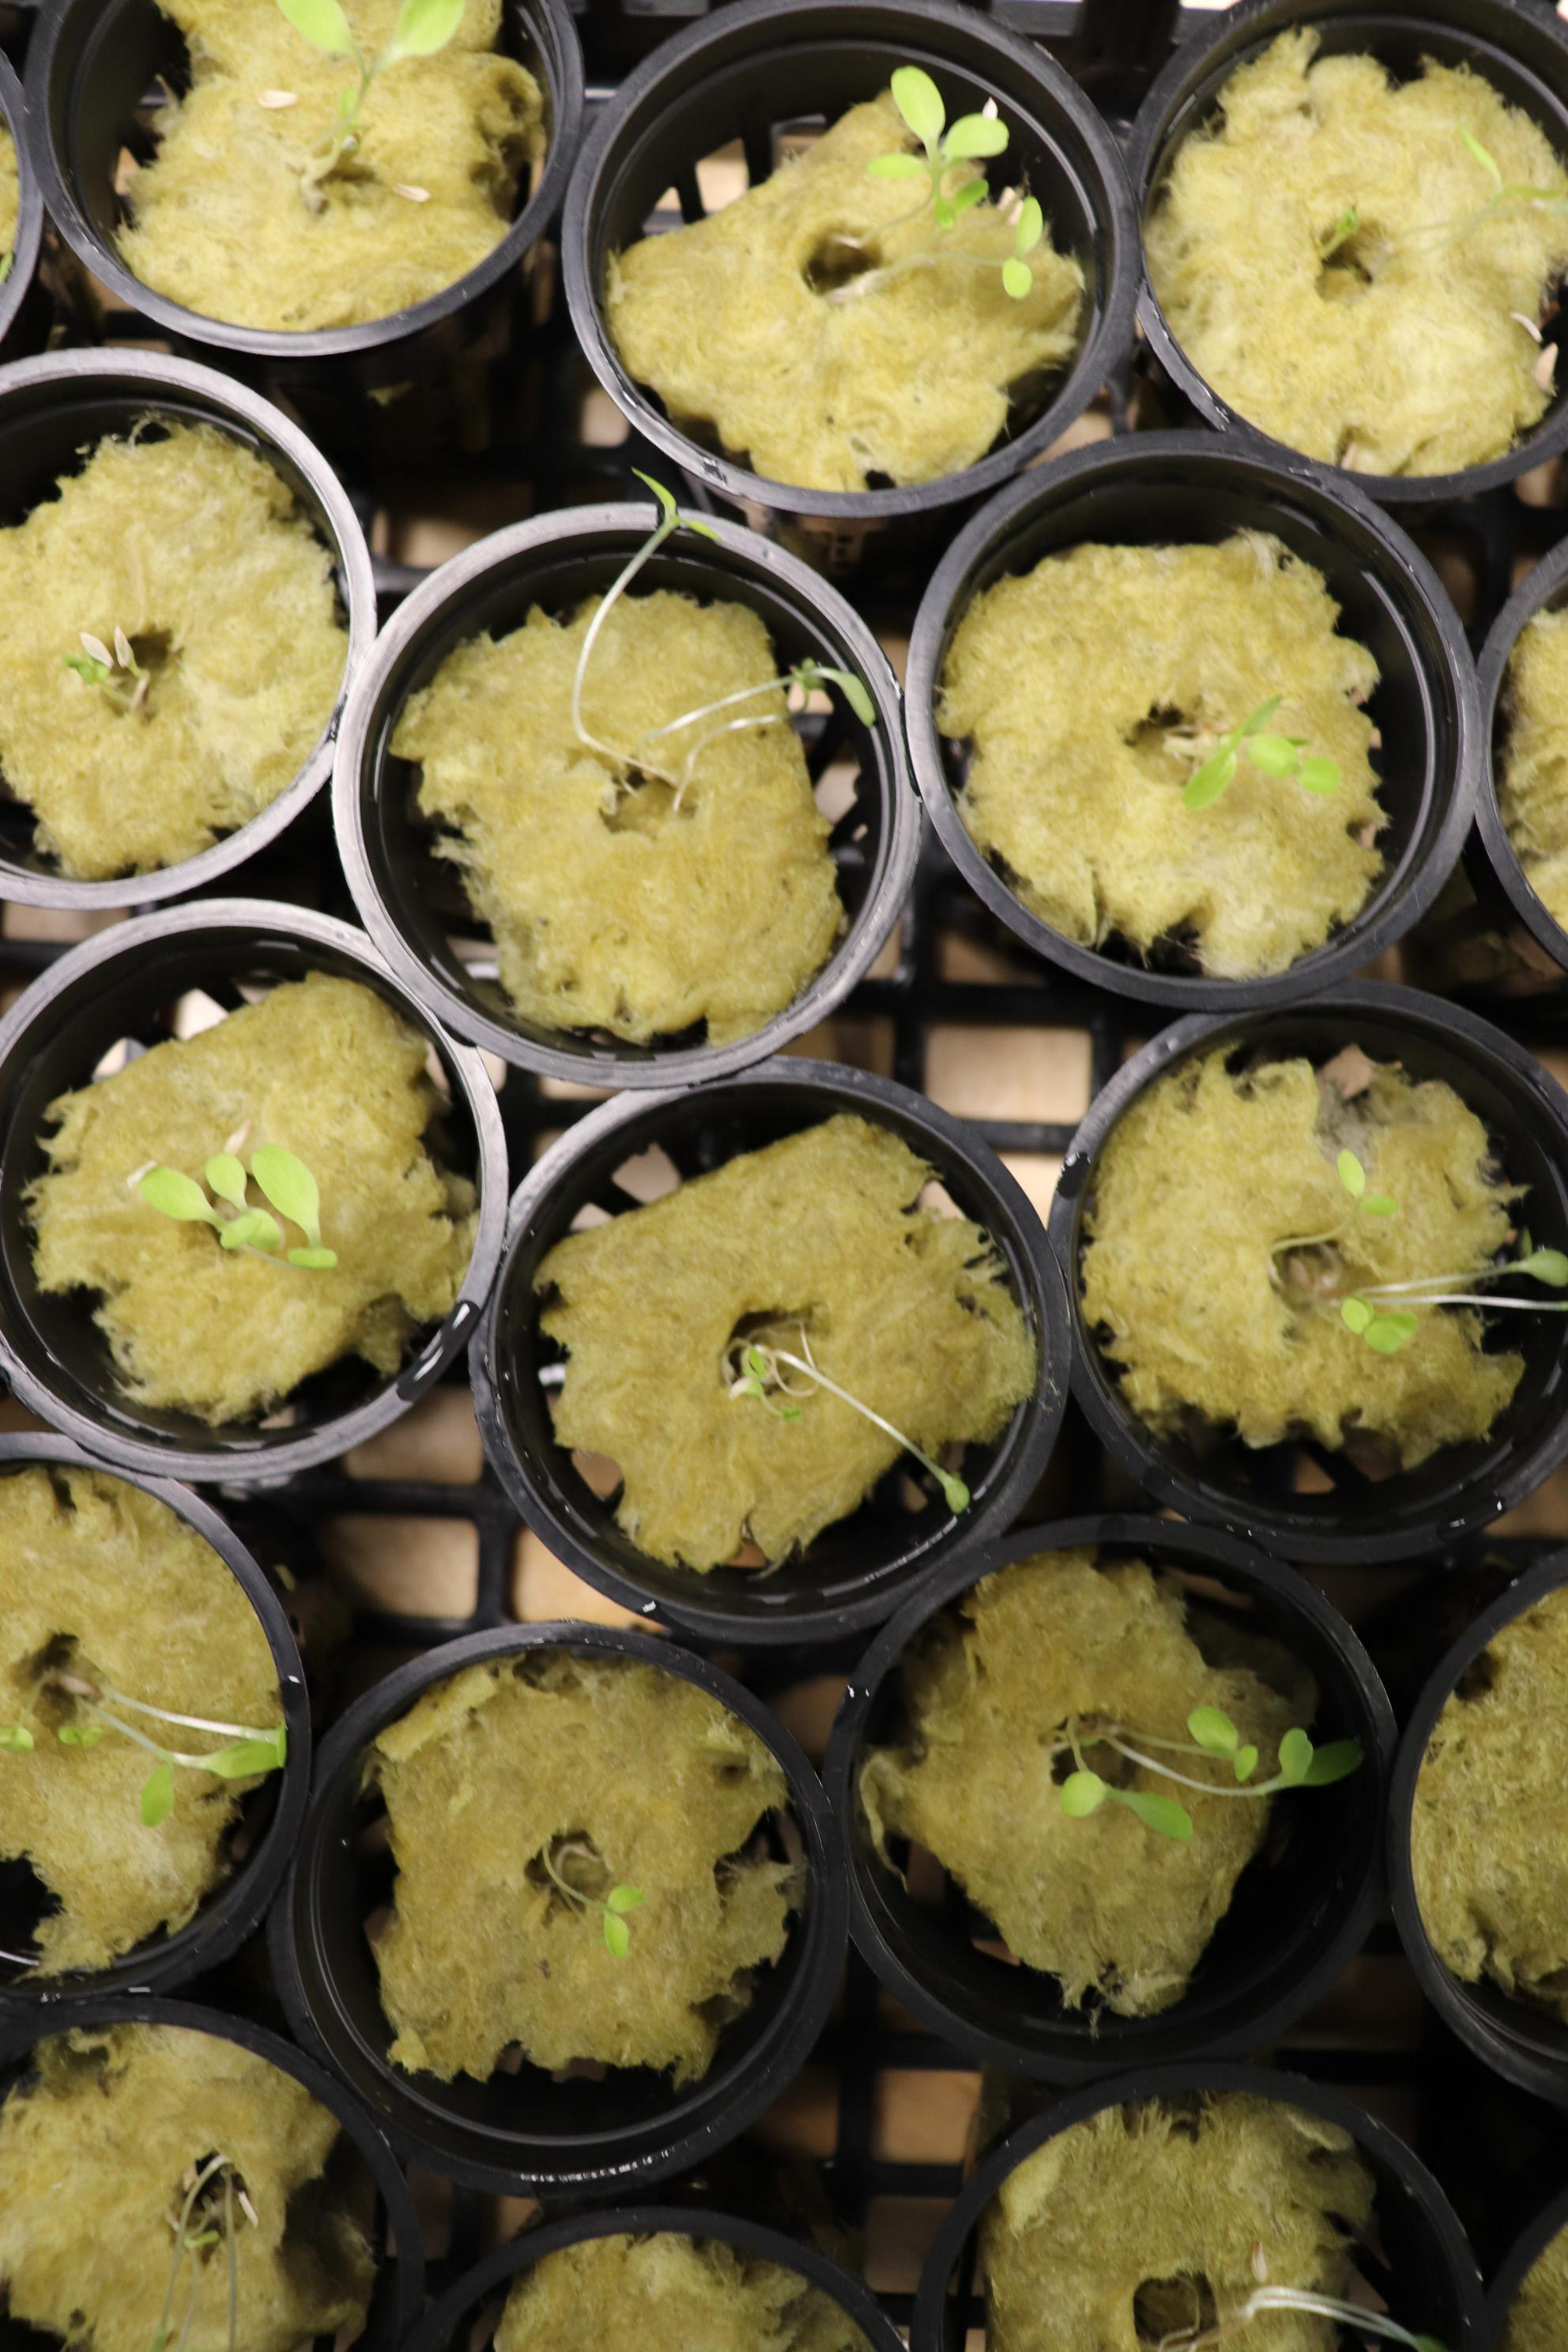GERMINATED: (584, 1130, 1001, 1559), (679, 52, 1059, 493), (1129, 1045, 1524, 1461), (1013, 511, 1367, 926), (469, 595, 810, 992), (378, 1706, 724, 2072), (94, 1020, 432, 1389), (1221, 63, 1556, 413), (931, 1634, 1277, 1946), (0, 432, 242, 844), (147, 26, 493, 287), (16, 1577, 240, 1895), (1020, 2156, 1382, 2352), (28, 2082, 290, 2343), (1517, 597, 1568, 927)
